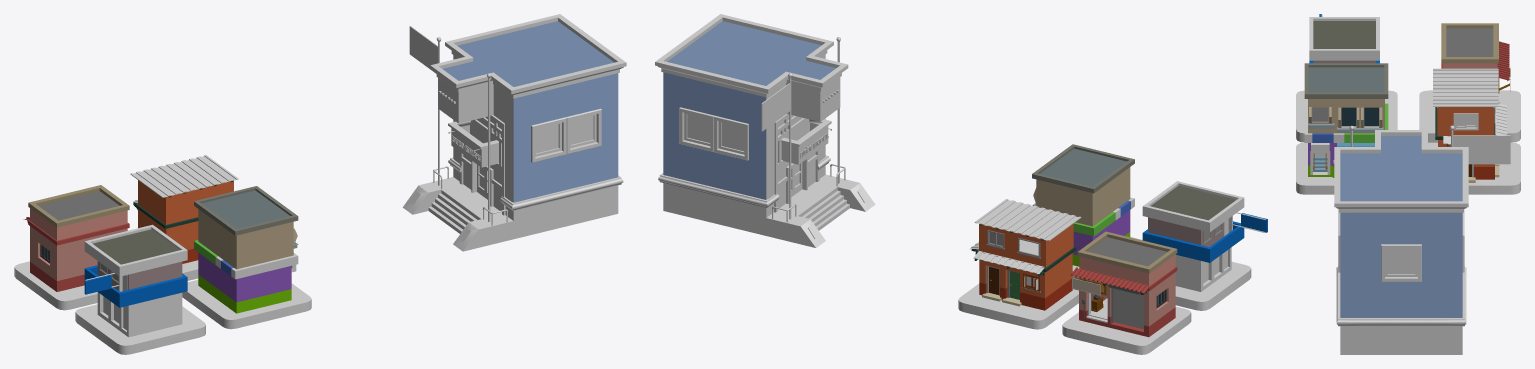
File: la_municipalidad_m.fbx
3 views of the same model, side by side, from view 1: azimuth 30°, elevation 25°; view 2: azimuth 150°, elevation 25°; view 3: azimuth 270°, elevation 25° (orthographic). The views are drawn at different scales.
Visible parts, largest first — view 1: la_municipalidad_m; view 2: la_municipalidad_m; view 3: la_municipalidad_m.
Boxes of the visible parts, x1=… form: la_municipalidad_m: x1=14, y1=14, x2=626, y2=354; la_municipalidad_m: x1=655, y1=14, x2=1267, y2=354; la_municipalidad_m: x1=1296, y1=14, x2=1520, y2=354.
Size of the model in its own units: 3145 by 913 by 1106.
